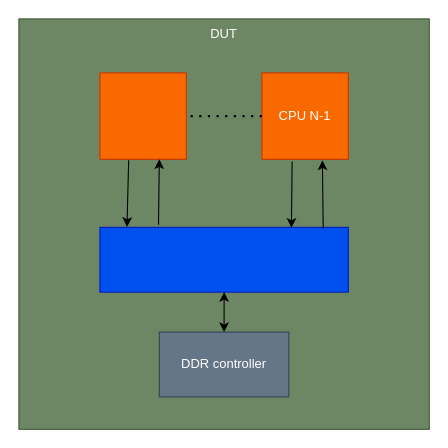
Image size: 448x448. Some labels were removed from this diagram. The centre of each missing label's shape, as x and y in pixels:
"CPU 0" goes at point 142,115.
"NOC" goes at point 223,259.
